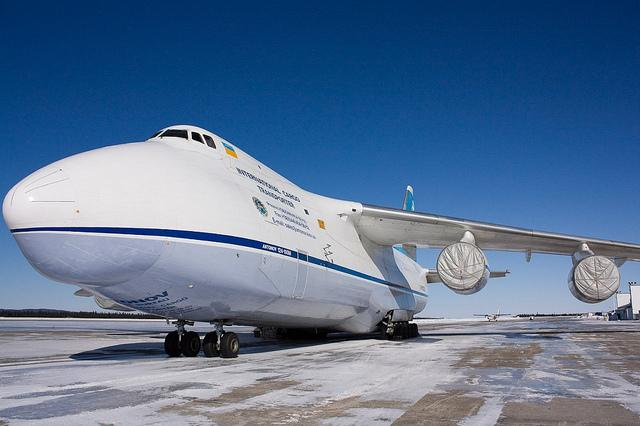airplane: (1, 122, 640, 358)
